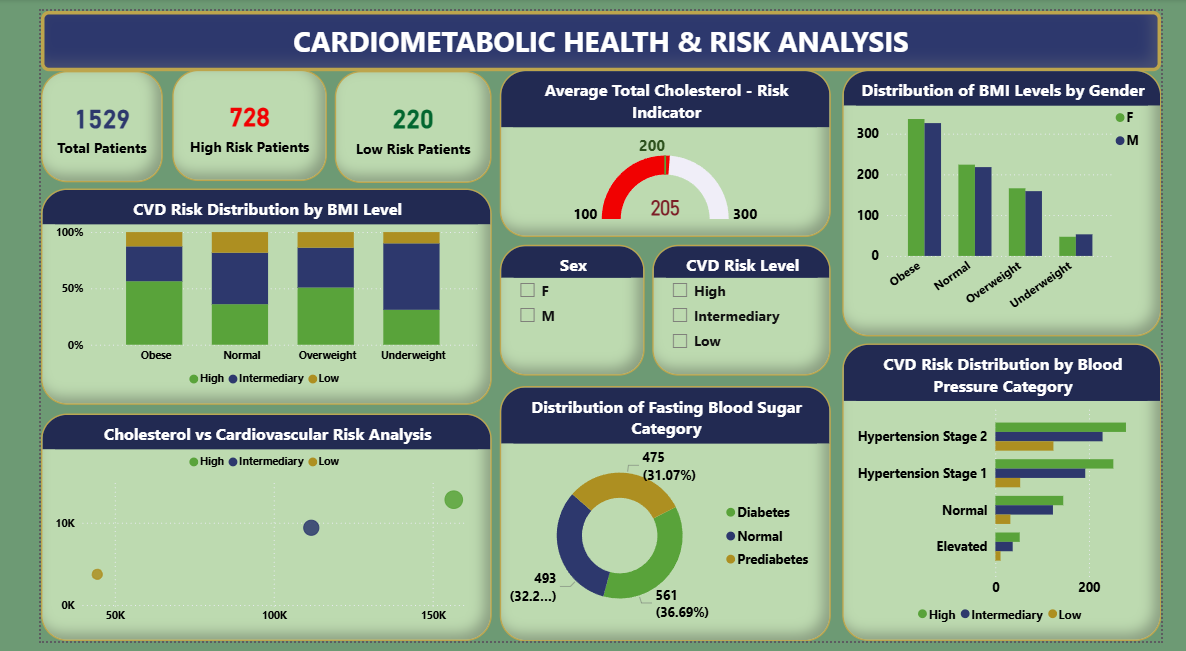

This screenshot's page, from the dashboard's own definition file:
{"tool":"powerbi","page":{"name":"Page 5","canvas":[1280,720],"ordinal":4},"visuals":[{"type":"textbox","box":[0,0,1280,68.8],"z":0},{"type":"clusteredColumnChart","title":"Distribution of BMI Levels by Gender","fields":{"Category":["Cleaned.BMI Level"],"Series":["Cleaned.Sex"],"Y":["Cleaned.Total Patients"]},"box":[915.6,67.2,364.5,304.8],"z":1000},{"type":"donutChart","title":"Distribution of  Fasting Blood Sugar Category","fields":{"Y":["Cleaned.Total Patients"],"Category":["Cleaned.Fasting Blood Sugar Category"]},"box":[525,427.9,378.2,292.3],"z":2000},{"type":"clusteredBarChart","title":"CVD Risk Distribution by Blood Pressure Category","fields":{"Category":["Cleaned.Blood Pressure Category"],"Series":["Cleaned.CVD Risk Level"],"Y":["Cleaned.Total Patients"]},"box":[915.6,380.7,364.5,339.6],"z":3000},{"type":"gauge","title":"Average Total Cholesterol - Risk Indicator","fields":{"Y":["Avg(Cleaned.Total Cholesterol(mg/dL))"],"TargetValue":["Cleaned.Target Cholesterol"],"MinValue":["Cleaned.Mimimum Cholesterol"],"MaxValue":["Cleaned.Maximum Cholesterol"]},"box":[525,67.2,378.2,191.6],"z":4000},{"type":"card","fields":{"Values":["Cleaned.Total Patients"]},"box":[0,68.4,139.3,126.9],"z":5000},{"type":"card","fields":{"Values":["Cleaned.High Risk Patients"]},"box":[150.5,67.2,176.6,126.9],"z":6000},{"type":"card","fields":{"Values":["Cleaned.Low Risk Patients"]},"box":[335.9,68.4,179.1,128.1],"z":7000},{"type":"hundredPercentStackedColumnChart","title":"CVD Risk Distribution by BMI Level","fields":{"Series":["Cleaned.CVD Risk Level"],"Y":["Cleaned.Total Patients"],"Category":["Cleaned.BMI Level"]},"box":[0,202.8,515,247.5],"z":8000},{"type":"scatterChart","title":"Cholesterol vs Cardiovascular Risk Analysis","fields":{"Y":["Sum(Cleaned.CVD Risk Score)"],"Series":["Cleaned.CVD Risk Level"],"Size":["Sum(Cleaned.BMI)"],"X":["Cleaned.Total Cholesterol(mg/dL)"]},"box":[0,460.3,515,260],"z":9000},{"type":"slicer","title":"Sex","fields":{"Values":["Cleaned.Sex"]},"box":[525,267.5,165.4,149.3],"z":10000},{"type":"slicer","title":"CVD Risk Level","fields":{"Values":["Cleaned.CVD Risk Level"]},"box":[699.1,267.5,204,149.3],"z":11000}]}

Visuals, with their boxes in screenshot pixels (x1, y1, x2, y2), scaled from the page's 1280x720 canvas onto the 1186x651 screenshot:
textbox: bbox=[0, 0, 1185, 62]
"Distribution of BMI Levels by Gender" clusteredColumnChart: bbox=[848, 61, 1185, 336]
"Distribution of  Fasting Blood Sugar Category" donutChart: bbox=[486, 387, 837, 650]
"CVD Risk Distribution by Blood Pressure Category" clusteredBarChart: bbox=[848, 344, 1185, 650]
"Average Total Cholesterol - Risk Indicator" gauge: bbox=[486, 61, 837, 234]
card - Cleaned.Total Patients: bbox=[0, 62, 129, 177]
card - Cleaned.High Risk Patients: bbox=[139, 61, 303, 175]
card - Cleaned.Low Risk Patients: bbox=[311, 62, 477, 178]
"CVD Risk Distribution by BMI Level" hundredPercentStackedColumnChart: bbox=[0, 183, 477, 407]
"Cholesterol vs Cardiovascular Risk Analysis" scatterChart: bbox=[0, 416, 477, 650]
"Sex" slicer: bbox=[486, 242, 640, 377]
"CVD Risk Level" slicer: bbox=[648, 242, 837, 377]
